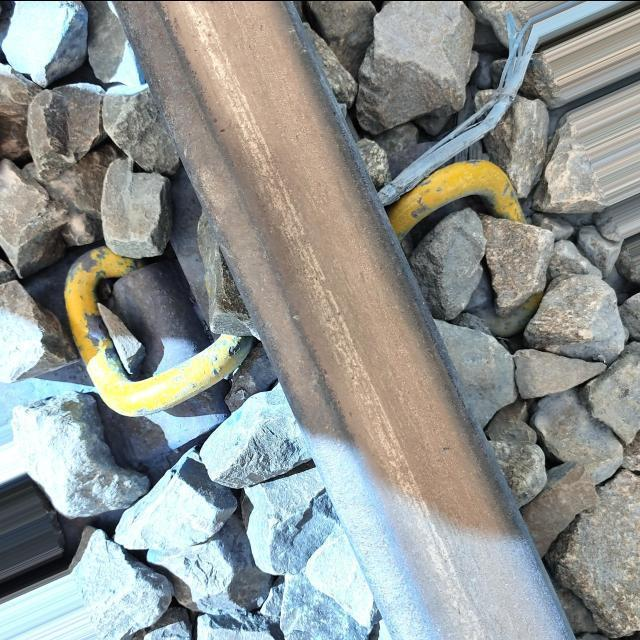head_checks_low: (211, 114, 229, 133), (441, 442, 454, 453)
